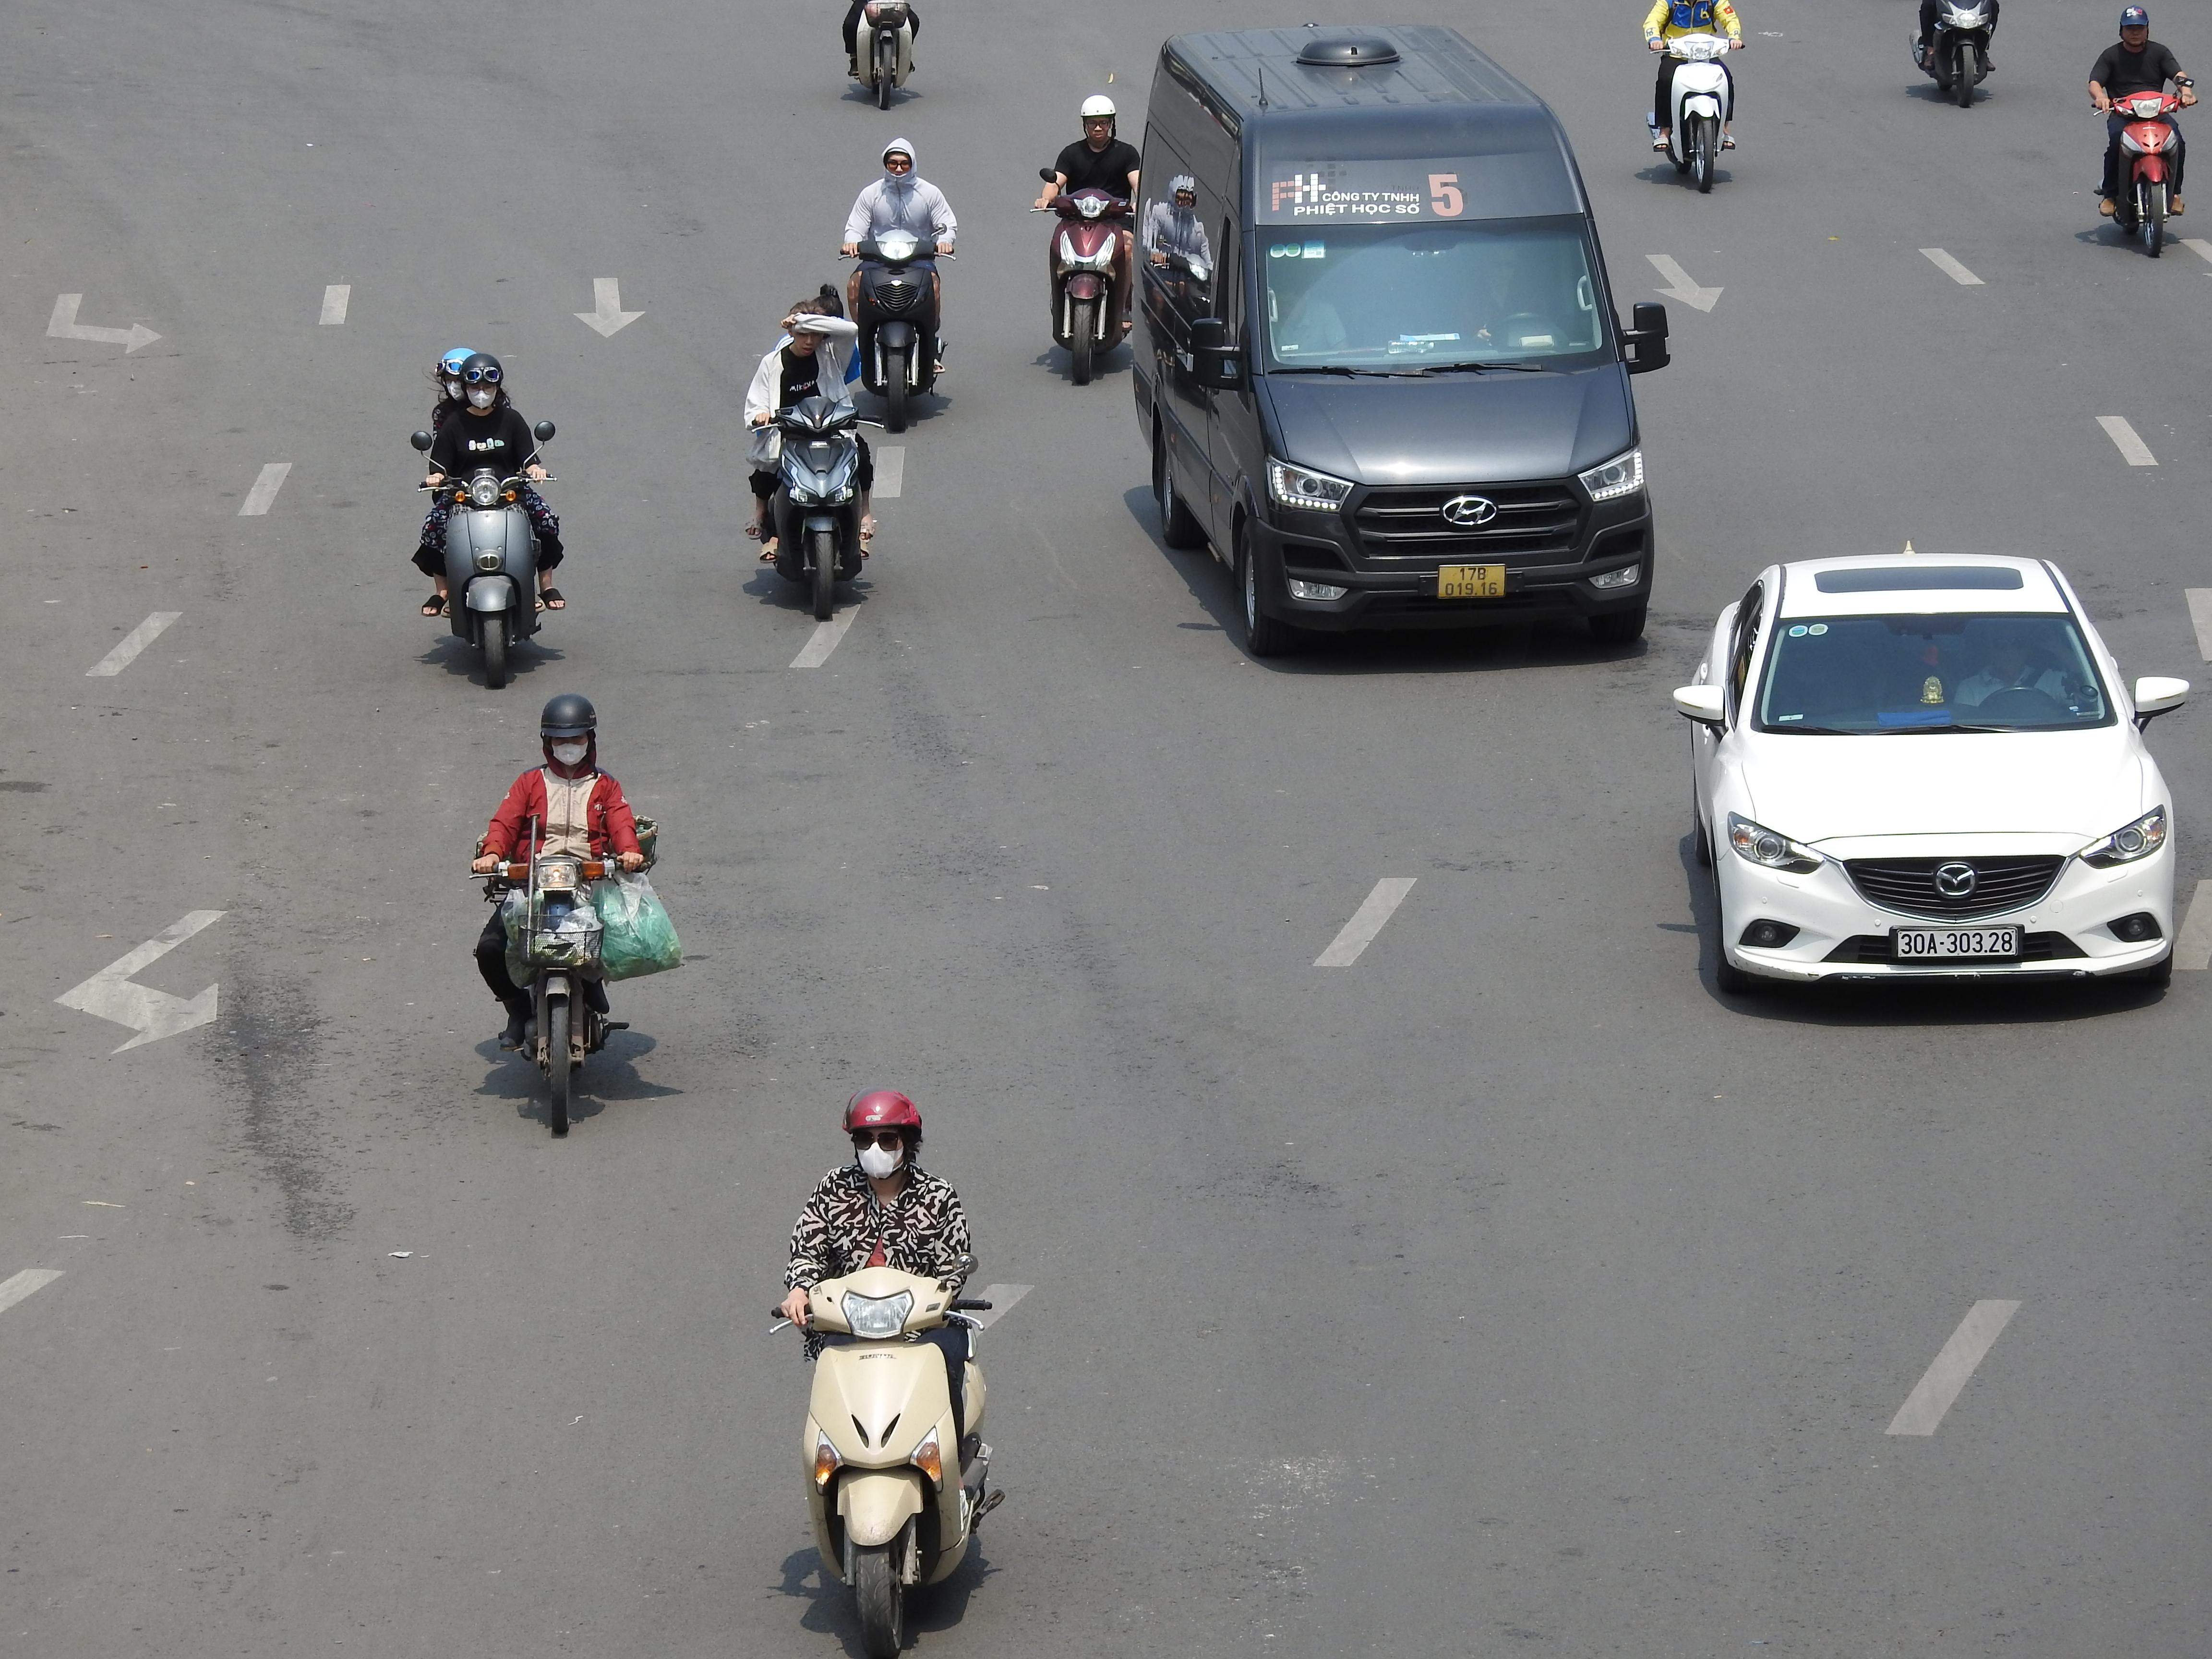BSD: (1895, 927, 2020, 958)
BSV: (1437, 565, 1505, 598)
bus: (1129, 23, 1672, 657)
car: (1129, 23, 1672, 659), (1670, 549, 2191, 1004)
motorbike: (773, 1087, 1005, 1659), (472, 692, 674, 1138), (413, 347, 564, 692), (745, 288, 878, 624), (840, 138, 956, 432), (1036, 92, 1143, 387), (2090, 5, 2195, 260), (1644, 0, 1742, 193), (1909, 0, 2005, 106), (840, 0, 921, 112)
